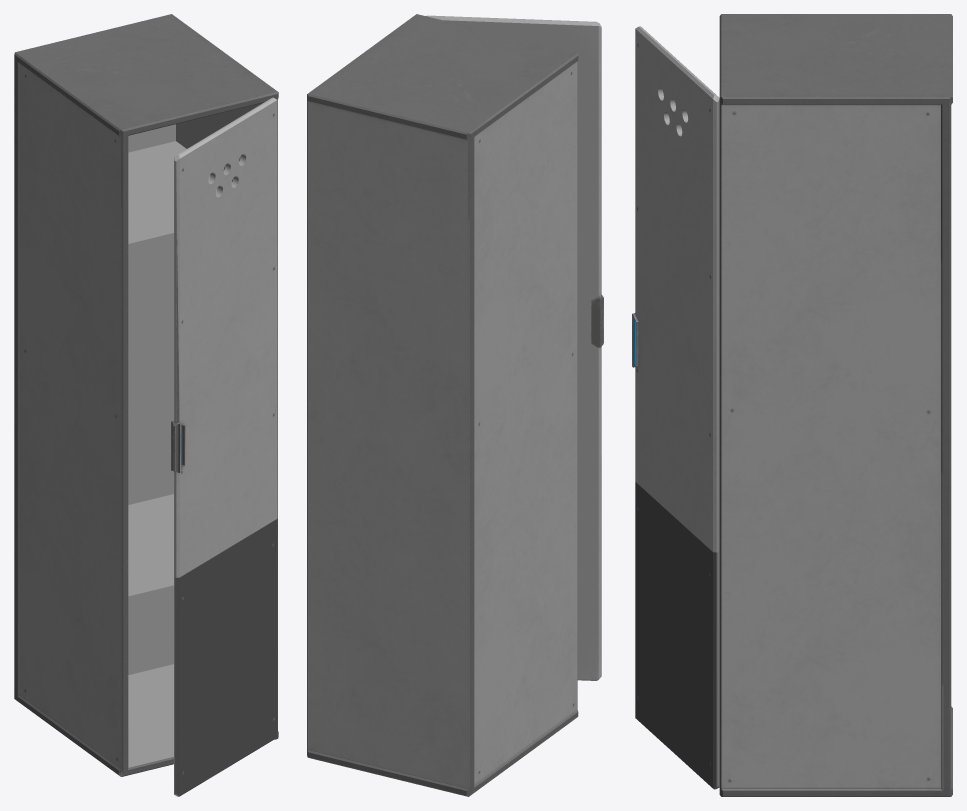
File: Scifi_Locker.fbx
3 views of the same model, side by side, from view 1: azimuth 30°, elevation 25°; view 2: azimuth 150°, elevation 25°; view 3: azimuth 270°, elevation 25° (orthographic). The views are drawn at different scales.
Visible parts, largest first — view 1: Locker, Door; view 2: Locker, Door; view 3: Locker, Door.
Boxes of the visible parts, x1,y1,x2,y2 form: Locker: (14,14,278,776); Door: (171,97,277,796); Locker: (307,14,578,796); Door: (426,15,603,680); Locker: (719,14,952,796); Door: (632,26,719,789).
Bounding box in the file's own units: 60.04 × 233 × 96.59.
Materials: 2 (2 with a texture image).
